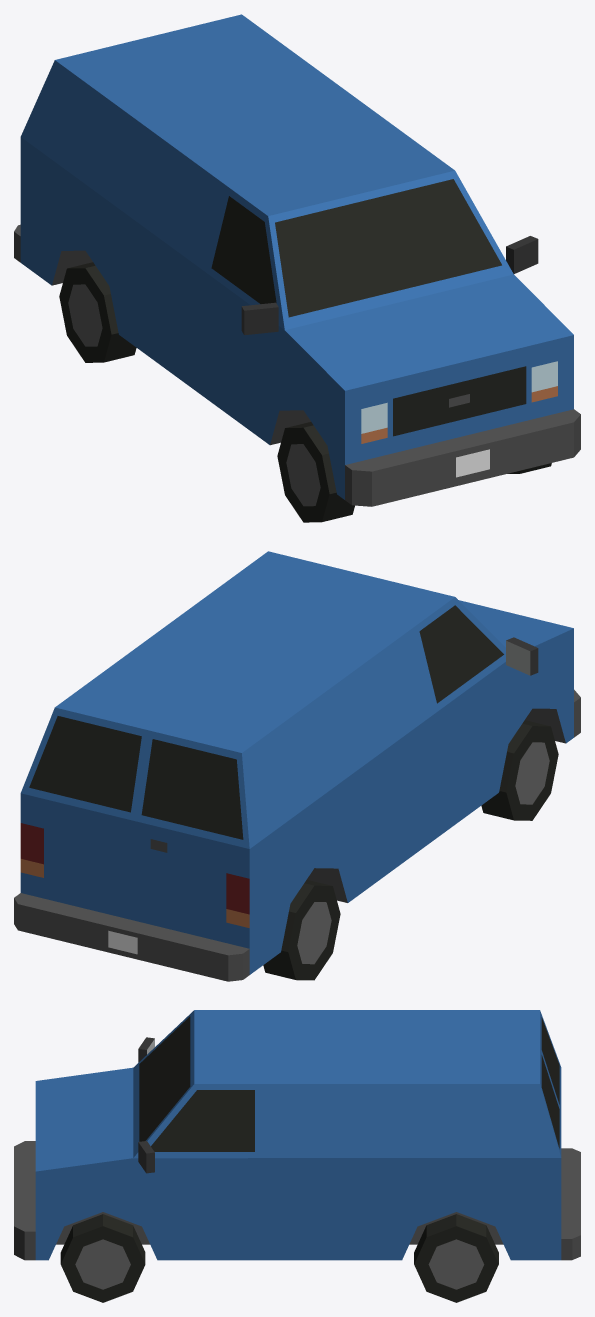
The model's file is Veh_Van_01_Blue.obj.
3 views of the same model, one above another, from view 1: azimuth 30°, elevation 25°; view 2: azimuth 150°, elevation 25°; view 3: azimuth 270°, elevation 25° (orthographic). The views are drawn at different scales.
Size of the model in its own units: 1.38 by 1.16 by 2.84.
